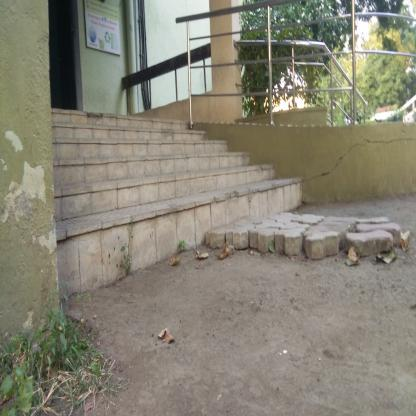stairs: (81, 128, 229, 290)
